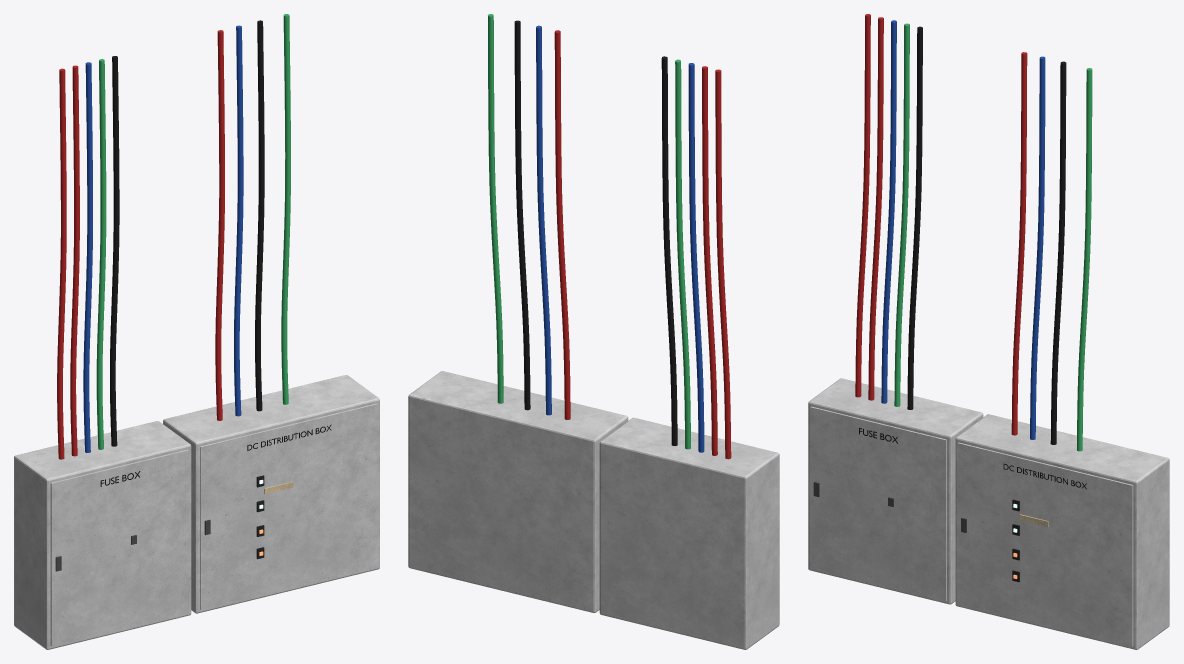
File: B07_DC_Distribution_Fuse_Box.fbx
The picture shows the model from 3 angles, left to right: view 1: azimuth 30°, elevation 25°; view 2: azimuth 150°, elevation 25°; view 3: azimuth 330°, elevation 25°; orthographic projection. The views are drawn at different scales.
Visible parts, largest first — view 1: DCDistBox_Door, FuseBox_Door, FuseBox_Body, DCDistBox_Body, Riser_Cable_8, Riser_Cable_4, Riser_Cable_7, Riser_Cable_1, Riser_Cable_5, Riser_Cable_2, Riser_Cable_9, Riser_Cable_6 (+1 smaller); view 2: DCDistBox_Body, FuseBox_Body, Riser_Cable_4, Riser_Cable_1, Riser_Cable_3, Riser_Cable_7, Riser_Cable_8, Riser_Cable_2, Riser_Cable_6, Riser_Cable_5, Riser_Cable_9; view 3: DCDistBox_Door, FuseBox_Door, DCDistBox_Body, FuseBox_Body, Riser_Cable_1, Riser_Cable_2, Riser_Cable_7, Riser_Cable_3, Riser_Cable_4, Riser_Cable_5, Riser_Cable_9, Riser_Cable_8 (+1 smaller).
Boxes of the visible parts, bbox=[...] form: DCDistBox_Door: bbox=[200, 403, 377, 609]; FuseBox_Door: bbox=[50, 449, 188, 646]; FuseBox_Body: bbox=[14, 421, 191, 649]; DCDistBox_Body: bbox=[163, 375, 379, 613]; Riser_Cable_8: bbox=[255, 20, 264, 411]; Riser_Cable_4: bbox=[96, 59, 106, 449]; Riser_Cable_7: bbox=[234, 25, 243, 416]; Riser_Cable_1: bbox=[57, 68, 66, 459]; Riser_Cable_5: bbox=[110, 56, 119, 446]; Riser_Cable_2: bbox=[70, 65, 79, 456]; Riser_Cable_9: bbox=[281, 14, 290, 404]; Riser_Cable_6: bbox=[215, 30, 224, 420]; DCDistBox_Body: bbox=[408, 371, 628, 612]; FuseBox_Body: bbox=[599, 417, 779, 649]; Riser_Cable_4: bbox=[675, 59, 690, 449]; Riser_Cable_1: bbox=[715, 69, 731, 459]; Riser_Cable_3: bbox=[688, 63, 704, 452]; Riser_Cable_7: bbox=[536, 25, 551, 415]; Riser_Cable_8: bbox=[514, 20, 530, 410]; Riser_Cable_2: bbox=[702, 66, 717, 455]; Riser_Cable_6: bbox=[554, 30, 570, 419]; Riser_Cable_5: bbox=[661, 56, 677, 445]; Riser_Cable_9: bbox=[488, 14, 503, 403]; DCDistBox_Door: bbox=[958, 442, 1133, 646]; FuseBox_Door: bbox=[810, 406, 946, 600]; DCDistBox_Body: bbox=[955, 414, 1169, 649]; FuseBox_Body: bbox=[808, 378, 983, 604]; Riser_Cable_1: bbox=[855, 14, 870, 397]; Riser_Cable_2: bbox=[868, 17, 883, 400]; Riser_Cable_7: bbox=[1030, 56, 1045, 439]; Riser_Cable_3: bbox=[881, 20, 896, 403]; Riser_Cable_4: bbox=[894, 23, 909, 406]; Riser_Cable_5: bbox=[907, 26, 922, 409]; Riser_Cable_9: bbox=[1077, 68, 1092, 451]; Riser_Cable_8: bbox=[1050, 61, 1066, 444].
Size of the model in its own units: 1.27 by 2.01 by 0.236.
11 materials, 4 textured.
